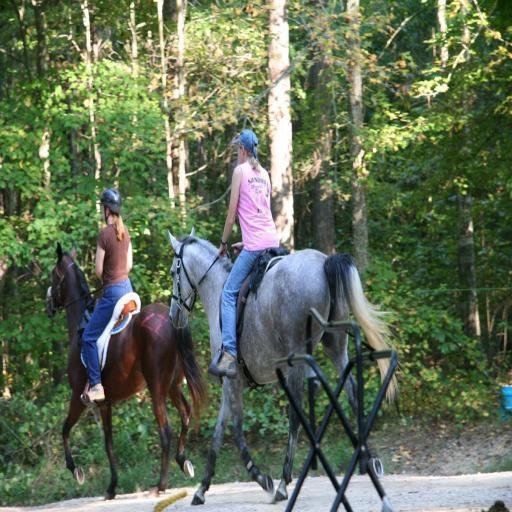horse: (168, 229, 400, 508), (44, 239, 212, 503)
